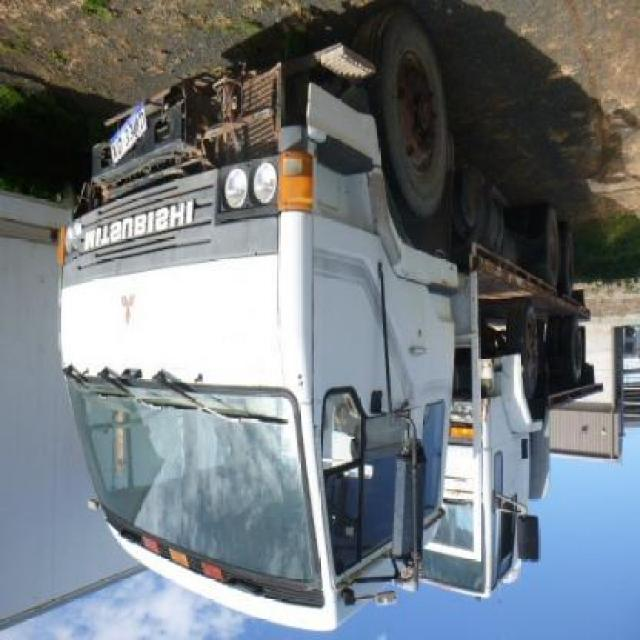truck: (57, 7, 594, 635)
